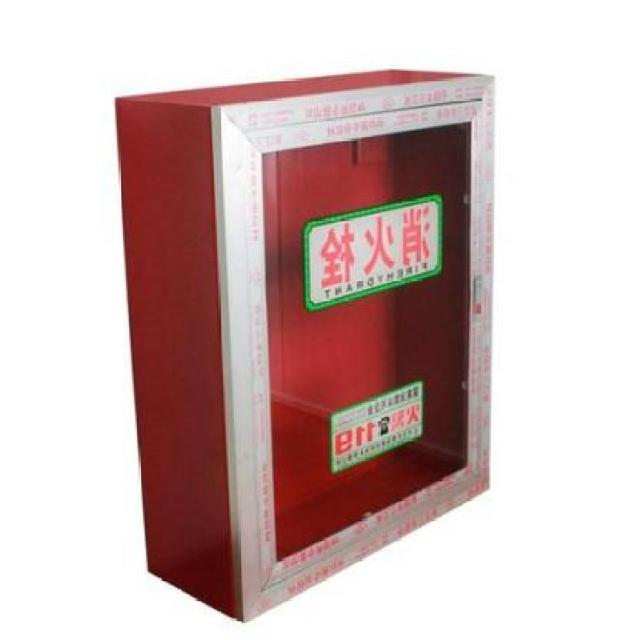firehydrant: (109, 61, 500, 628)
